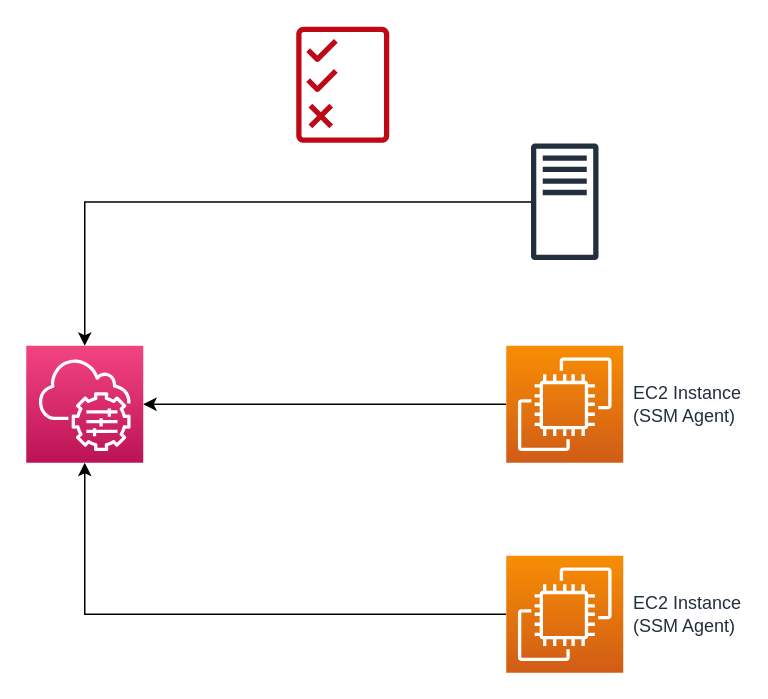
Image size: 768x699. Some labels were removed from this diagram. Here are the shapes that lost their labels. From the top down, the centre of each, then its label:
At [342,84]: "IAM Permissions".
At [564,201]: "On-premise Server/VM (SSM Agent)".
